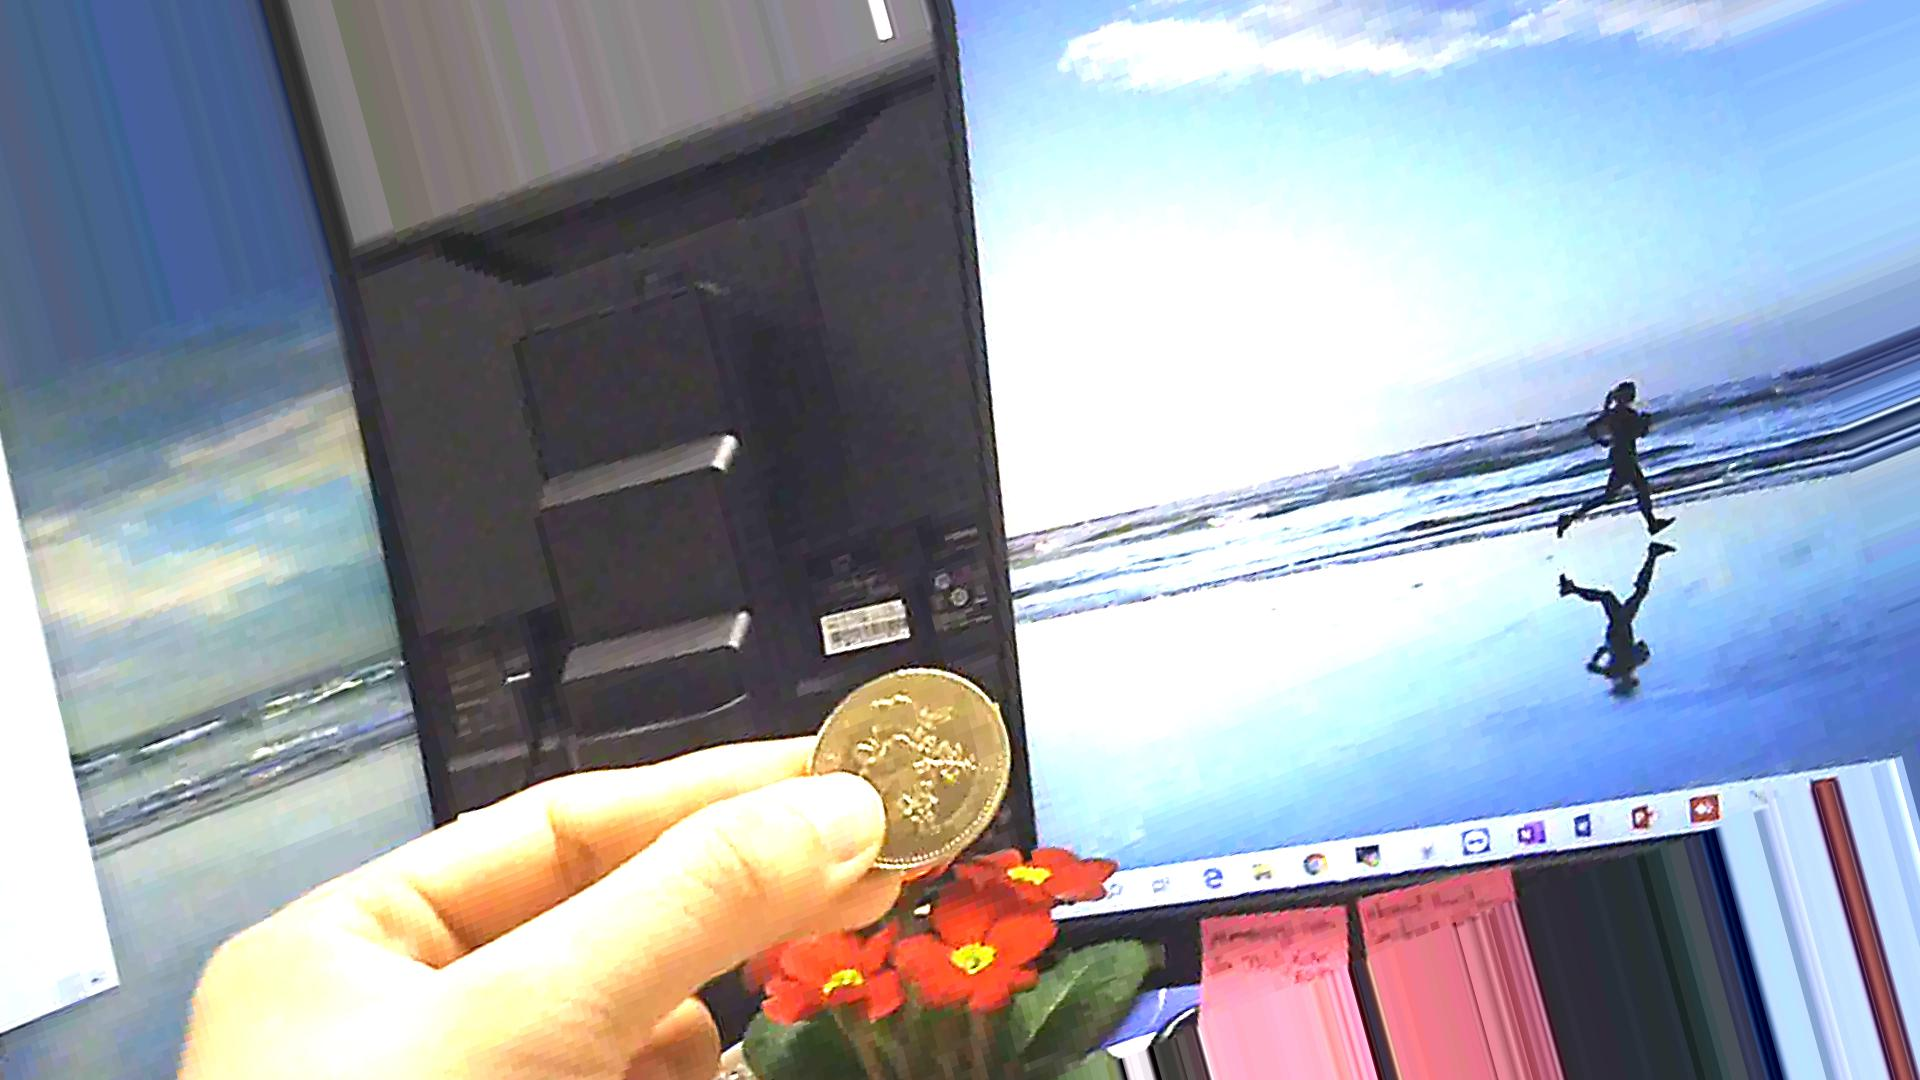500 Yen: (802, 651, 1018, 878)
